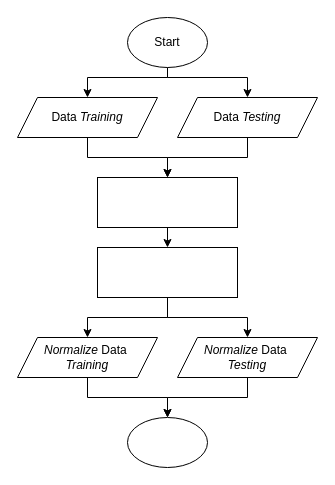
This 335x485 diagram has some shape labels left out. Here are the shapes that lost their labels. From the top down, the centre of each, then its label:
At pixel 167 202: "Hitung Rata-rata ( μ ) dan Standard Deviasi ( σ)".
At pixel 167 272: "z = (x_i + μ) / σ".
At pixel 167 442: "End".
